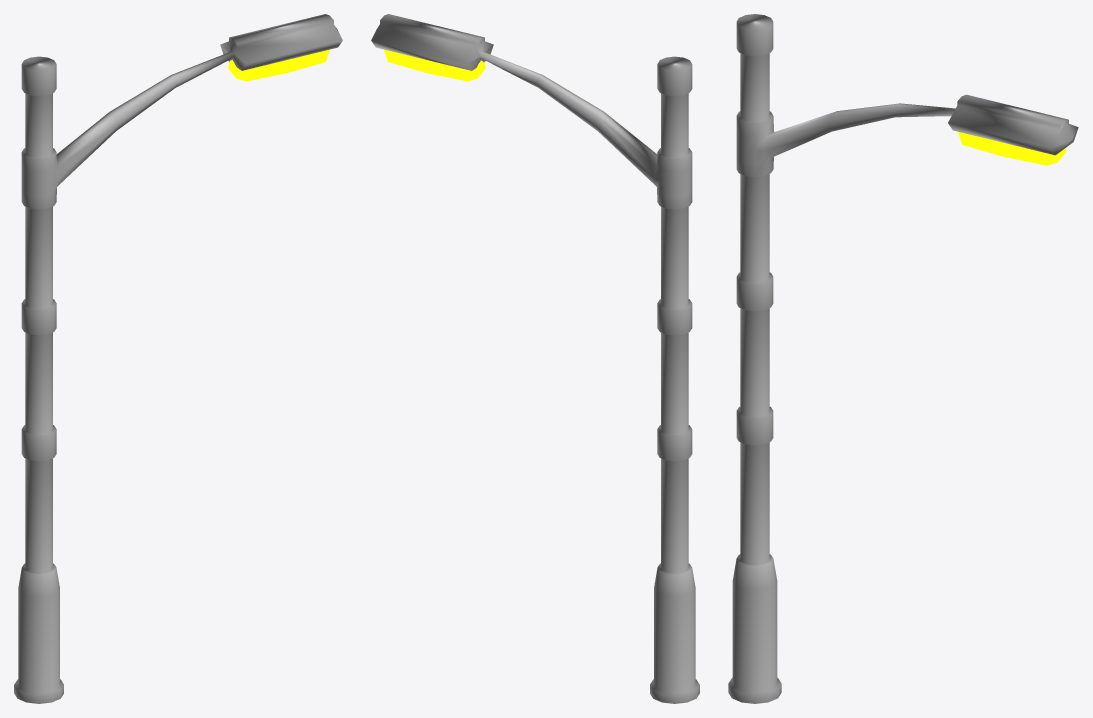
File: LampostWithColour.fbx
The picture shows the model from 3 angles, left to right: view 1: azimuth 30°, elevation 25°; view 2: azimuth 150°, elevation 25°; view 3: azimuth 330°, elevation 25°; orthographic projection. The views are drawn at different scales.
Visible parts, largest first — view 1: Cylinder, Cube; view 2: Cylinder, Cube; view 3: Cylinder, Cube.
Part boxes in pixels (x1,y1,x2,y2): Cylinder: [14, 14, 342, 703]; Cube: [228, 49, 329, 81]; Cylinder: [371, 14, 699, 703]; Cube: [384, 49, 485, 81]; Cylinder: [728, 14, 1078, 703]; Cube: [958, 131, 1066, 165].
Bounding box in the file's own units: 266 × 500 × 38.1.
